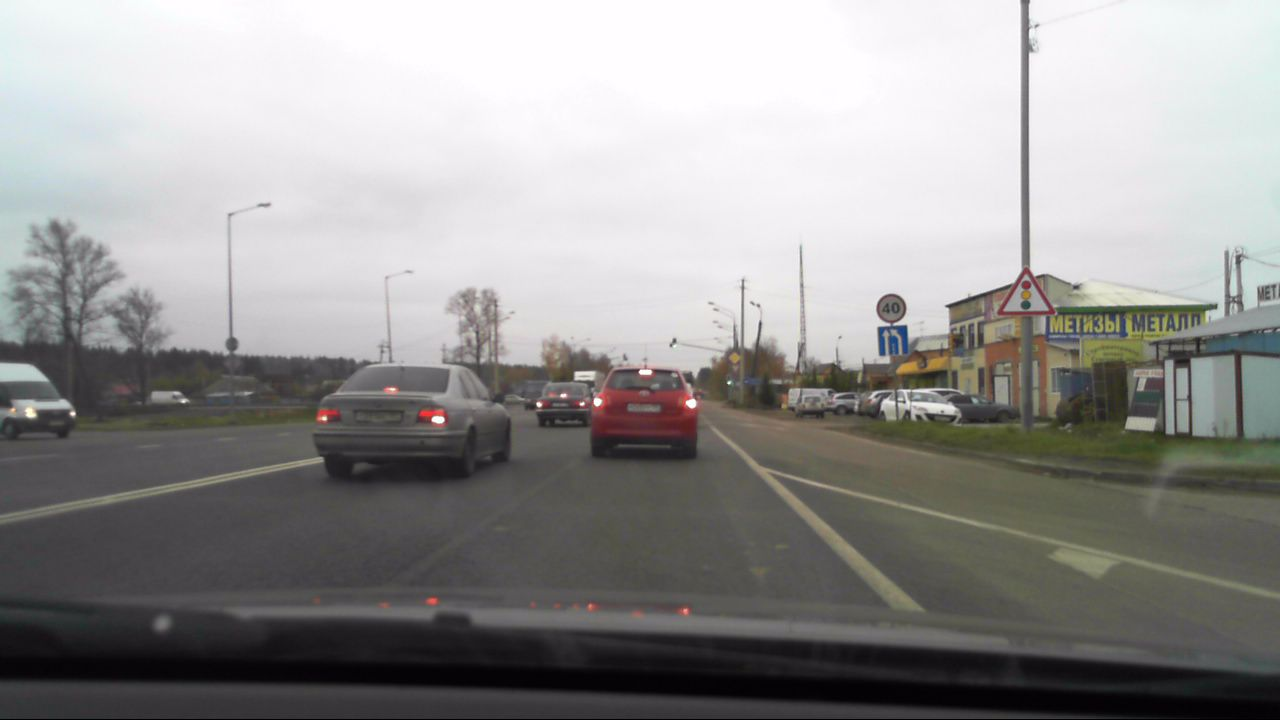speed_warning_40: (874, 291, 908, 324)
